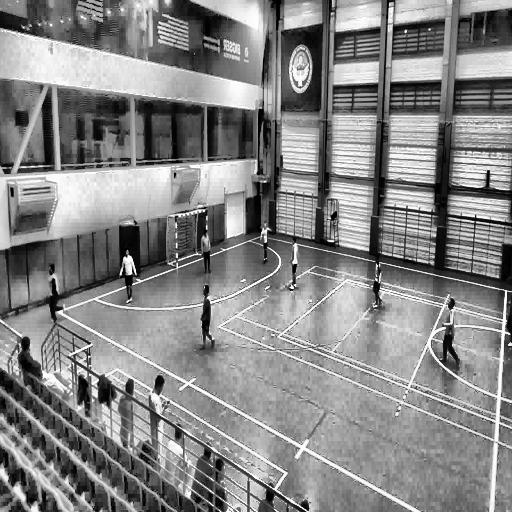player: (148, 375, 170, 464), (439, 297, 460, 367), (200, 284, 216, 351), (48, 263, 63, 322), (122, 246, 137, 302), (289, 238, 299, 291), (372, 256, 382, 309), (201, 226, 212, 274), (505, 282, 512, 343), (262, 223, 270, 265)
